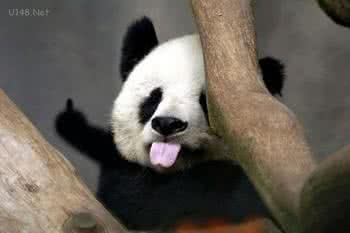panda: (51, 13, 289, 226)
